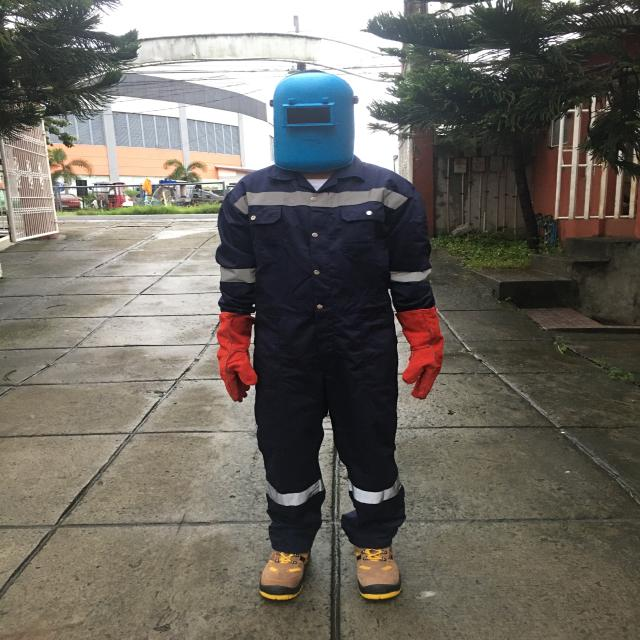with_helmet: (271, 72, 356, 171)
